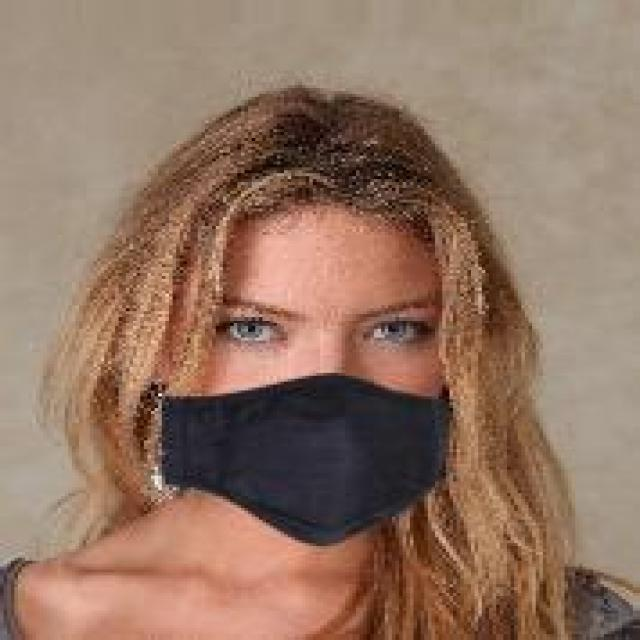mask: (169, 115, 511, 584)
